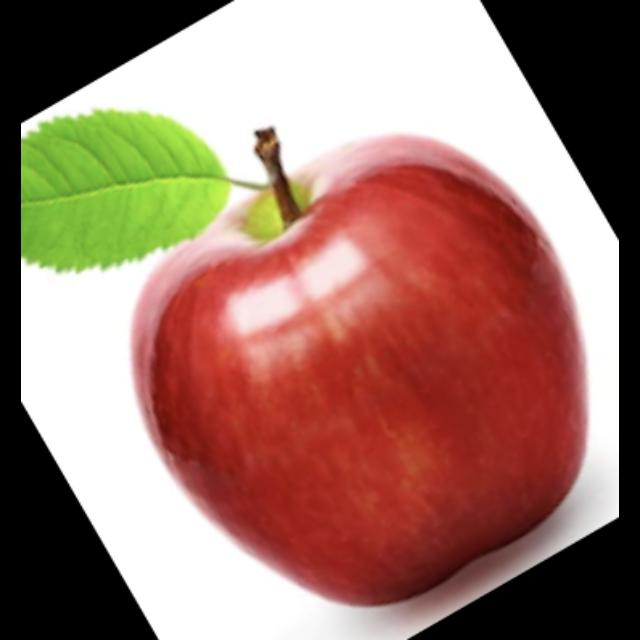Apel Segar: (130, 136, 591, 640)
